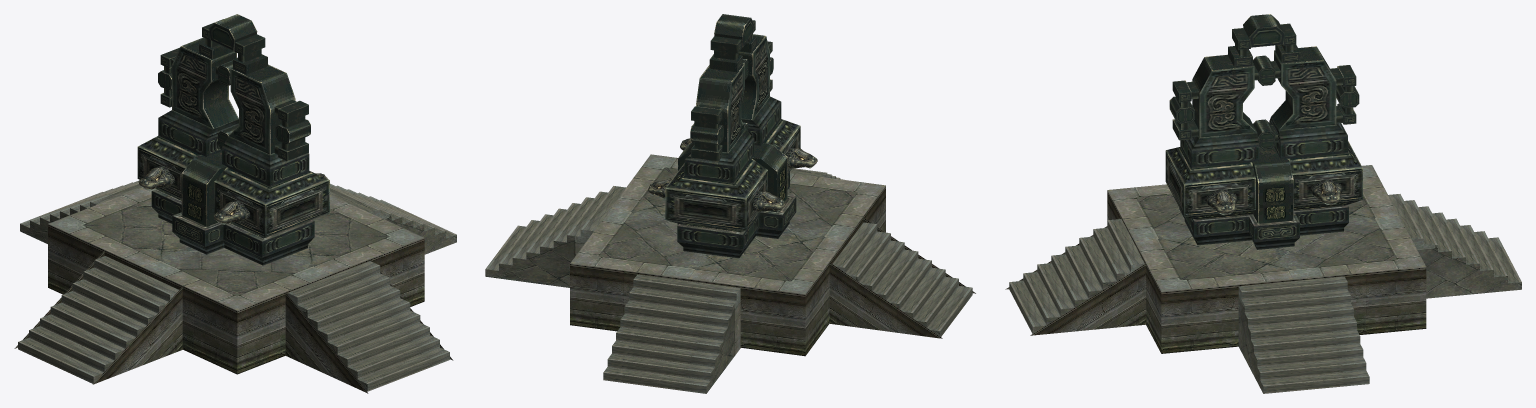
Rendered from autel.fbx.
3 views of the same model, side by side, from view 1: azimuth 30°, elevation 25°; view 2: azimuth 150°, elevation 25°; view 3: azimuth 270°, elevation 25° (orthographic). The views are drawn at different scales.
Parts seen in each view (by area): view 1: Autel; view 2: Autel; view 3: Autel.
Boxes of the visible parts, bbox=[...] form: Autel: bbox=[14, 14, 456, 393]; Autel: bbox=[485, 14, 975, 393]; Autel: bbox=[1005, 14, 1521, 393].
Size of the model in its own units: 33.04 by 19.76 by 34.52.
